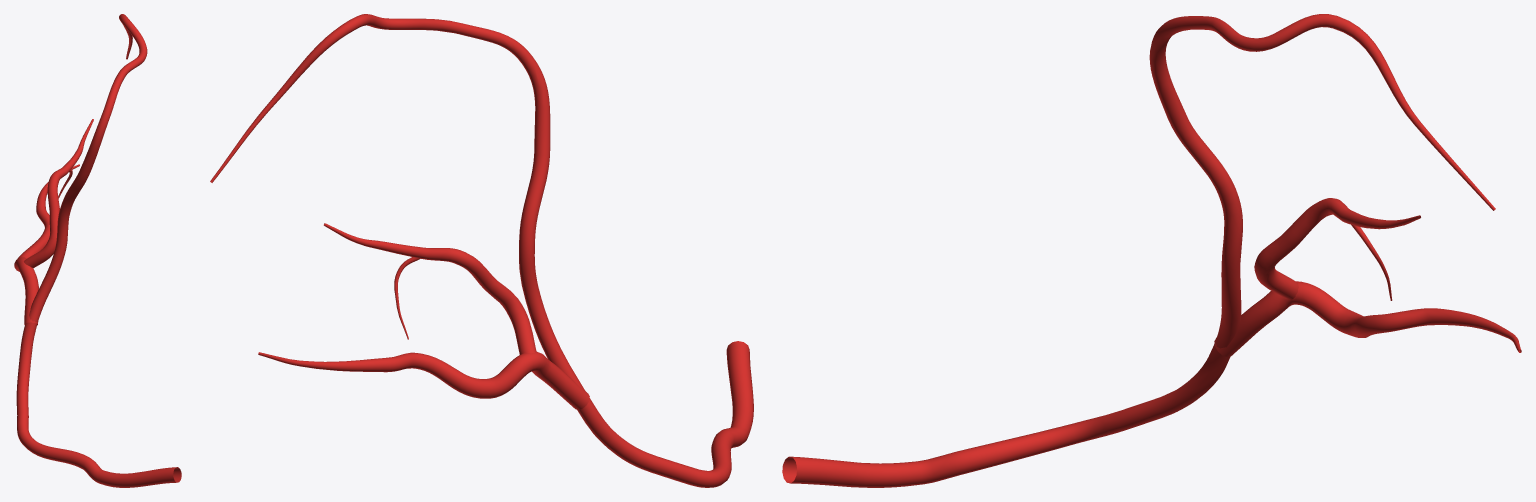
The model's file is circulatorio-posterior-parietal-artery-r.glb.
The picture shows the model from 3 angles, left to right: view 1: azimuth 30°, elevation 25°; view 2: azimuth 150°, elevation 25°; view 3: azimuth 270°, elevation 25°; orthographic projection. The views are drawn at different scales.
Parts seen in each view (by area): view 1: Posterior parietal artery.r; view 2: Posterior parietal artery.r; view 3: Posterior parietal artery.r.
Boxes of the visible parts, x1,y1,x2,y2 form: Posterior parietal artery.r: (14, 14, 181, 487); Posterior parietal artery.r: (210, 14, 753, 487); Posterior parietal artery.r: (782, 14, 1521, 487).
Bounding box in the file's own units: 0.0265 × 0.0382 × 0.0434.
